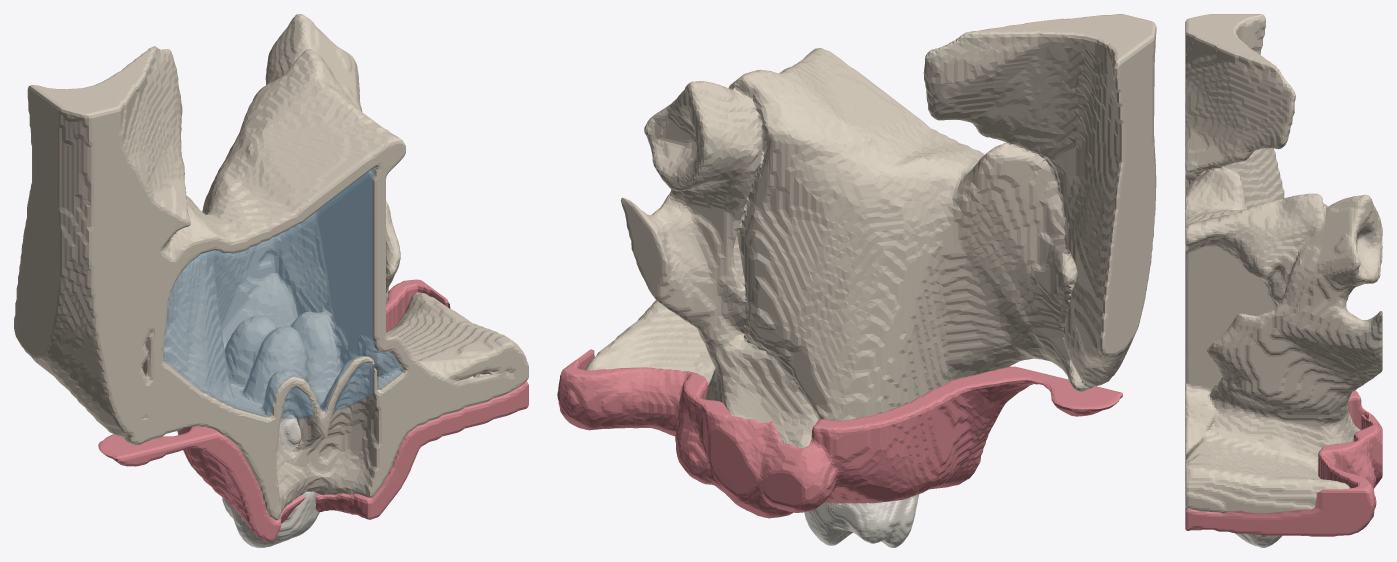
File: oac.glb
3 renders of one model, left to right at view 1: azimuth 30°, elevation 25°; view 2: azimuth 150°, elevation 25°; view 3: azimuth 270°, elevation 25°, orthographic. The views are drawn at different scales.
Parts seen in each view (by area): view 1: bone, sinus, gum, teeth; view 2: bone, gum, teeth; view 3: bone, gum, teeth.
Boxes of the visible parts, <box> form: bone: <box>14,14,528,520</box>; sinus: <box>163,168,403,419</box>; gum: <box>98,279,528,541</box>; teeth: <box>222,414,319,547</box>; bone: <box>585,14,1156,448</box>; gum: <box>557,349,1122,518</box>; teeth: <box>804,494,919,547</box>; bone: <box>1185,14,1382,513</box>; gum: <box>1185,390,1382,536</box>; teeth: <box>1234,533,1282,547</box>.
Bounding box in the file's own units: 0.051 × 0.0547 × 0.023.
